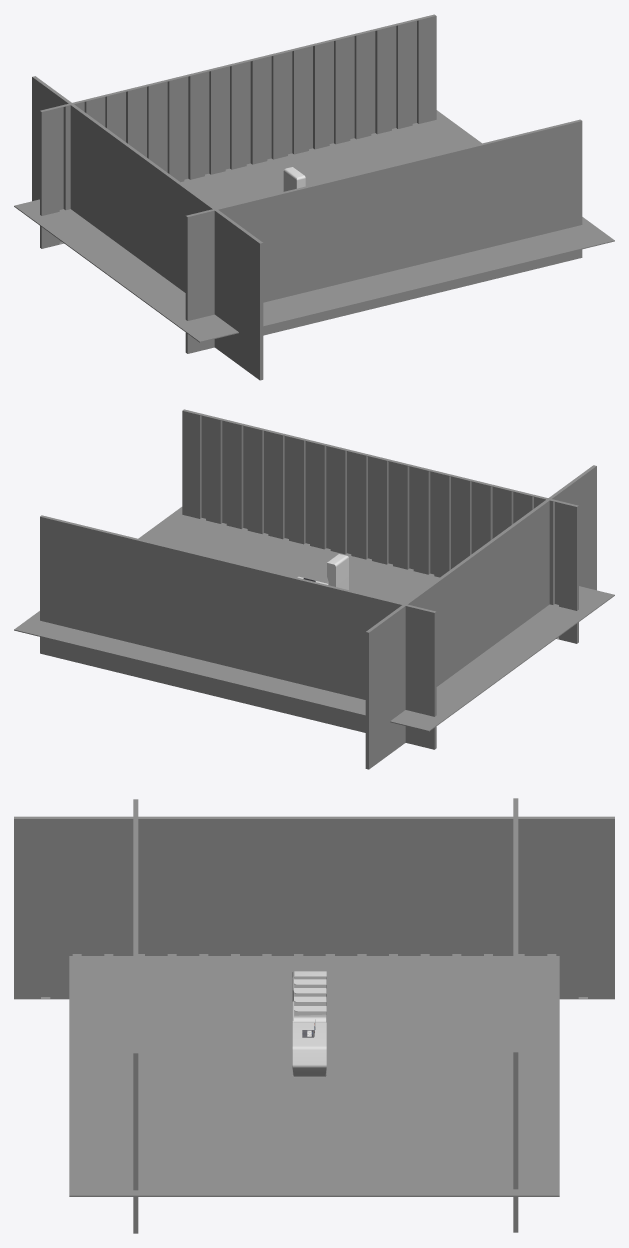
The picture shows the model from 3 angles, top to bottom: view 1: azimuth 30°, elevation 25°; view 2: azimuth 150°, elevation 25°; view 3: azimuth 270°, elevation 25°; orthographic projection. The views are drawn at different scales.
Parts seen in each view (by area): view 1: Cube.003, Cube.001, Cube, Cube.002; view 2: Cube.001, Cube.003, Cube, Cube.002, Table; view 3: Cube, Cube.002, Table, Cube.001, Cube.003.
Boxes of the visible parts, x1,y1,x2,y2 form: Cube.003: (185,119,582,353); Cube.001: (40,14,436,248); Cube: (14,110,614,342); Cube.002: (32,76,263,380); Cube.001: (40,515,436,749); Cube.003: (182,409,578,643); Cube: (14,507,614,731); Cube.002: (365,465,596,769); Table: (297,554,348,589); Cube: (69,954,559,1196); Cube.002: (14,816,614,999); Table: (292,971,326,1077); Cube.001: (513,798,518,1232); Cube.003: (133,799,138,1233).
Bounding box in the file's own units: 22.95 × 7.23 × 21.82.
18 materials, 2 textured.
